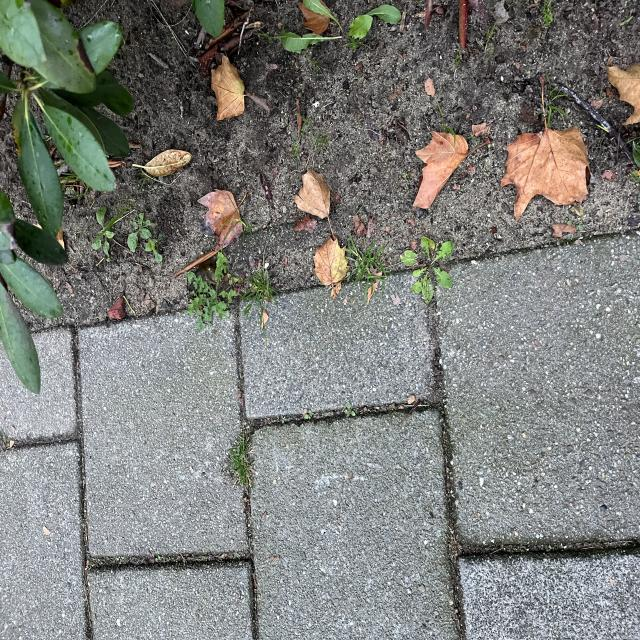leaves: (322, 546, 391, 622), (291, 264, 338, 320), (311, 396, 356, 451), (270, 424, 305, 467)
pavement: (2, 6, 277, 640)
plants: (264, 4, 475, 640)
weed: (245, 239, 286, 362)
weedling: (264, 532, 302, 615), (112, 304, 157, 339), (259, 478, 293, 502)
